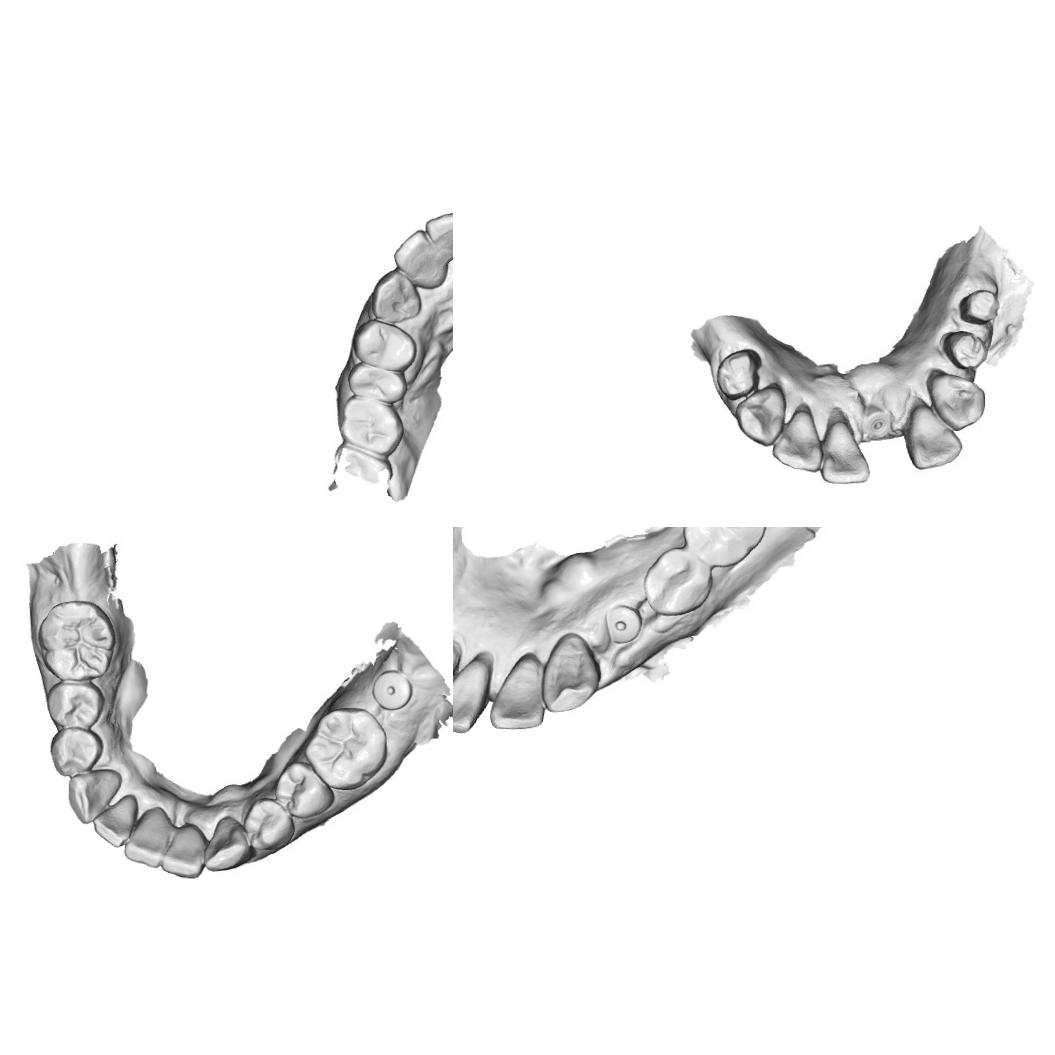canine: (538, 630, 599, 715), (930, 368, 990, 431), (67, 767, 124, 825), (734, 386, 786, 448), (201, 815, 254, 873), (371, 270, 423, 324)
crown: (713, 345, 764, 400), (956, 282, 1002, 330), (943, 328, 991, 371)
implant: (599, 600, 644, 645), (369, 668, 413, 711), (861, 407, 894, 438)
incisor: (488, 659, 546, 731), (906, 400, 962, 472), (821, 408, 870, 487), (392, 229, 448, 290), (122, 804, 170, 870), (775, 411, 822, 474), (159, 821, 207, 880), (92, 791, 140, 849), (453, 662, 487, 735), (422, 207, 453, 261)
molar: (302, 705, 389, 792), (36, 597, 118, 682), (679, 527, 771, 571), (339, 394, 404, 456)
premolar: (642, 546, 716, 618), (272, 762, 336, 820), (352, 318, 418, 373), (241, 798, 297, 852), (47, 727, 104, 780), (43, 682, 105, 730), (346, 360, 408, 404)
